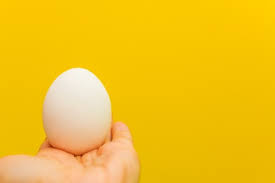egg: (45, 67, 111, 154)
